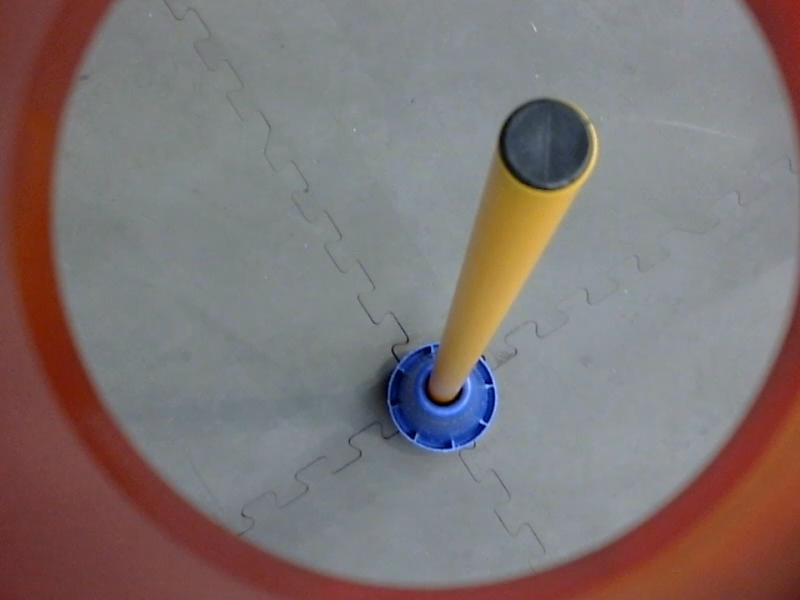tip: (491, 88, 602, 200)
